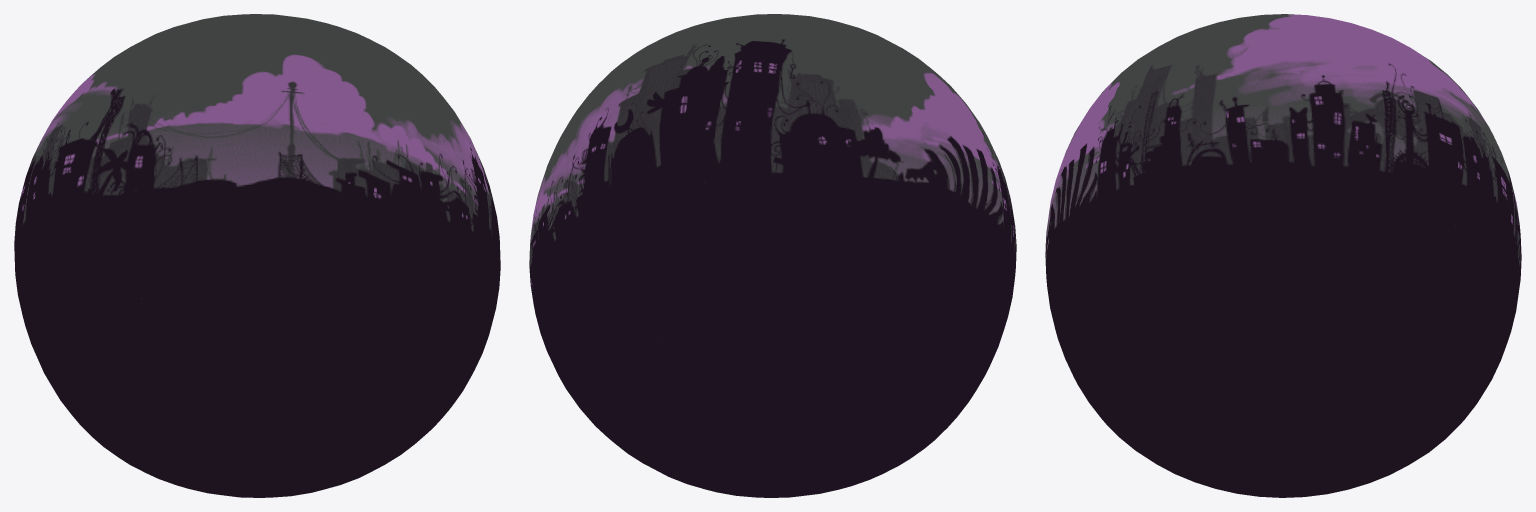
File: skybox.gltf
3 views of the same model, side by side, from view 1: azimuth 30°, elevation 25°; view 2: azimuth 150°, elevation 25°; view 3: azimuth 270°, elevation 25° (orthographic).
Parts seen in each view (by area): view 1: skybox; view 2: skybox; view 3: skybox.
Part boxes in pixels (<box>): skybox: <box>14,14,500,497</box>; skybox: <box>529,14,1016,497</box>; skybox: <box>1045,14,1521,497</box>.
Size of the model in its own units: 11529 by 11530 by 11531.
1 material, 1 textured.
